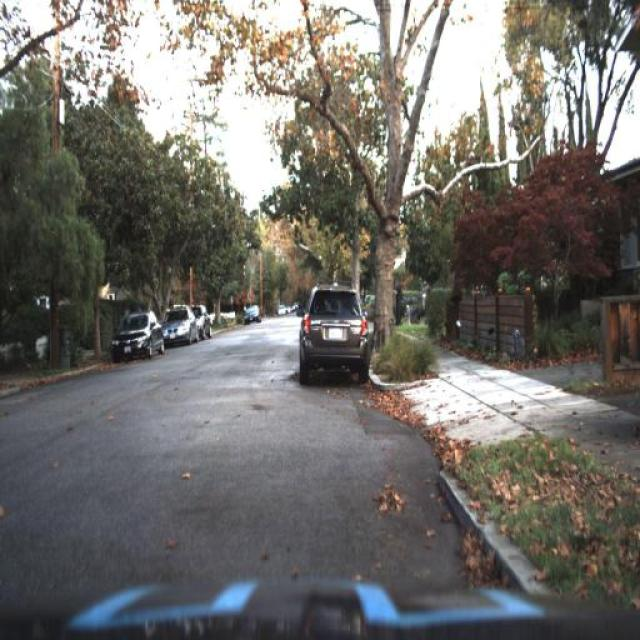car: (286, 275, 380, 394), (106, 296, 164, 376), (159, 296, 196, 356), (188, 297, 214, 339), (241, 302, 265, 327)
